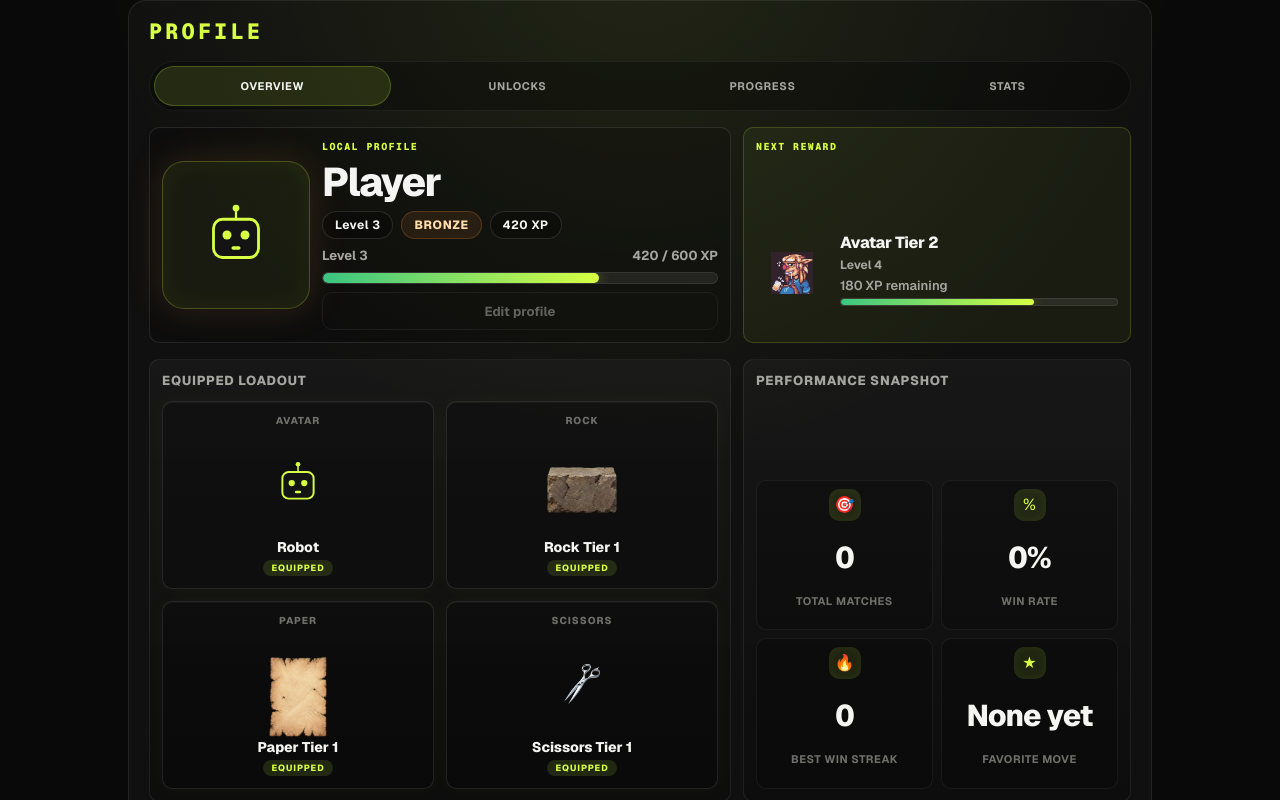
Test case: ProfilePageContent › shows one unlock category at a time with vertical category navigation
Click the tab "Unlocks": (518, 86) [399,66,636,106]
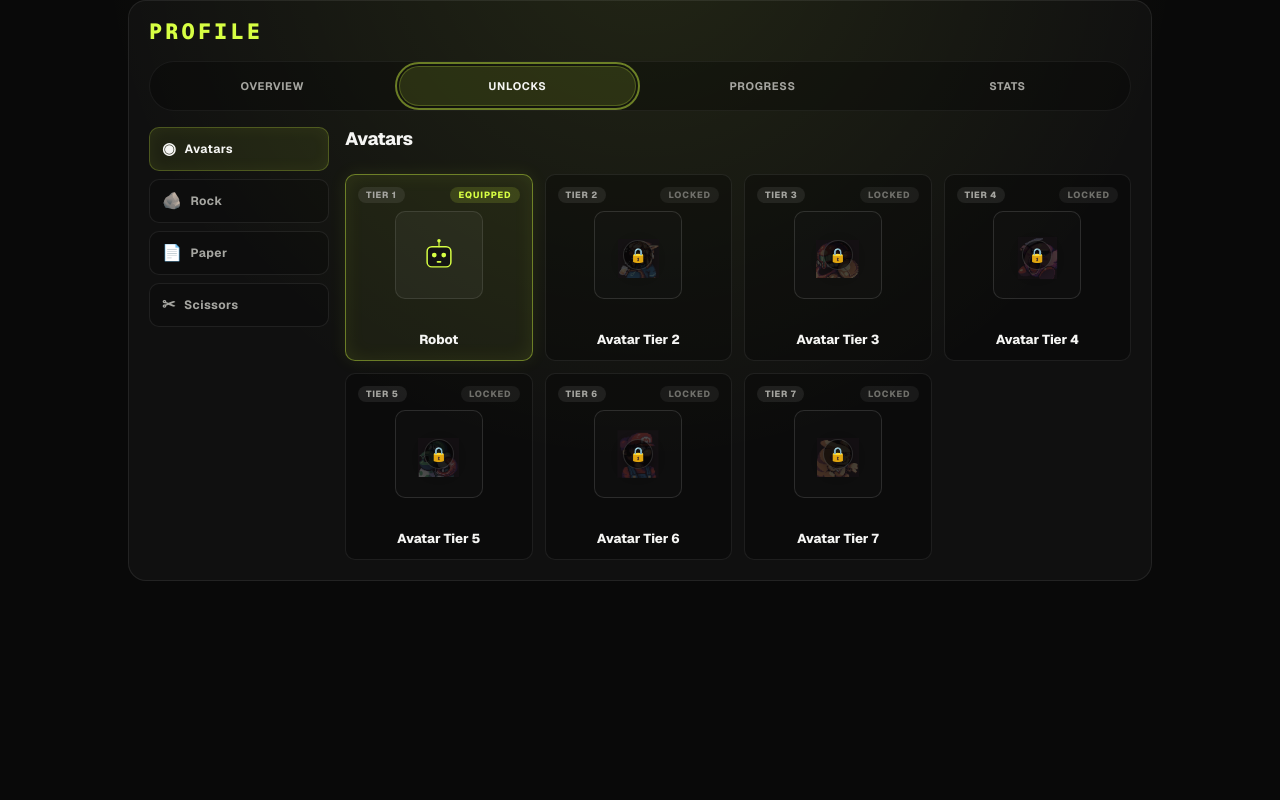
Expected: the text "Robot" is shown, [419,331,458,348]
Now the button "Rock Tier 1" is gone
Click the tab "🪨 Rock": (239, 201) [149,179,329,223]
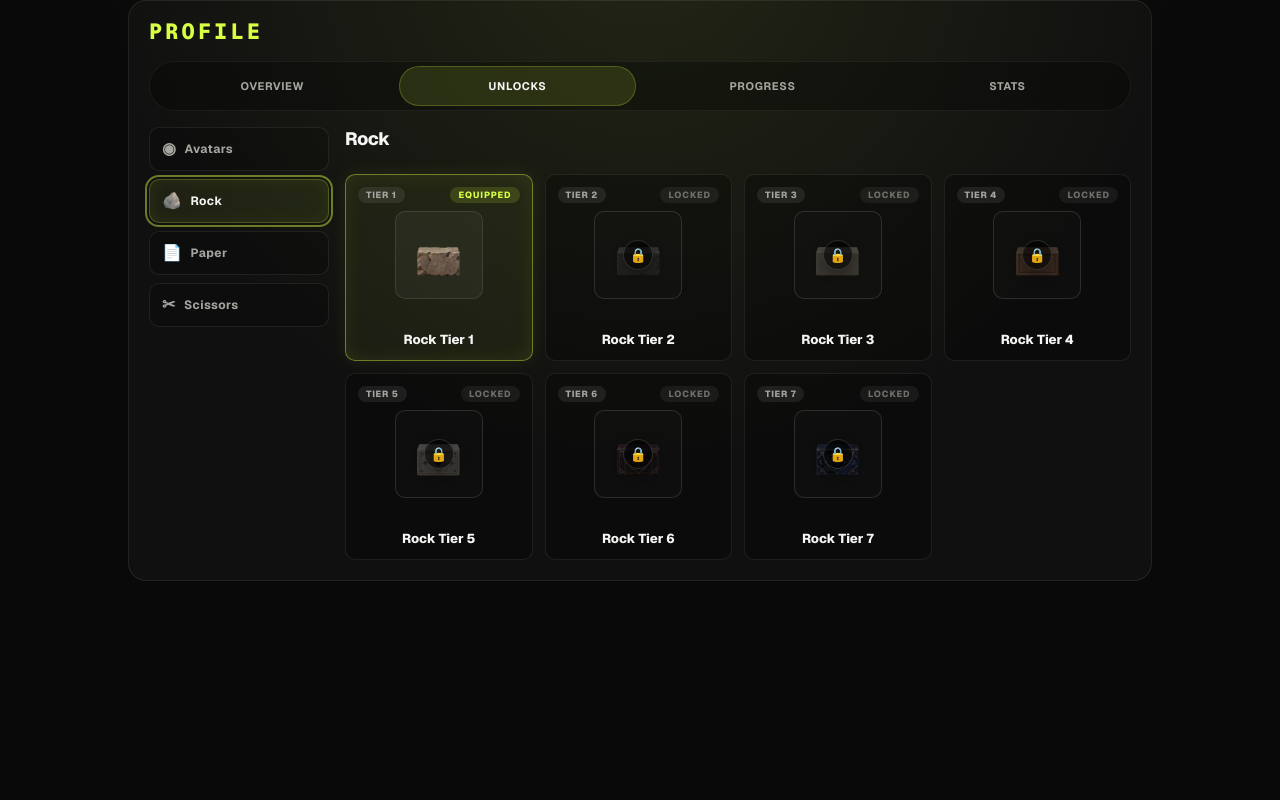
Now the text "Rock Tier 1" is shown, box [404,331,474,348]
Now the button "Robot" is gone
